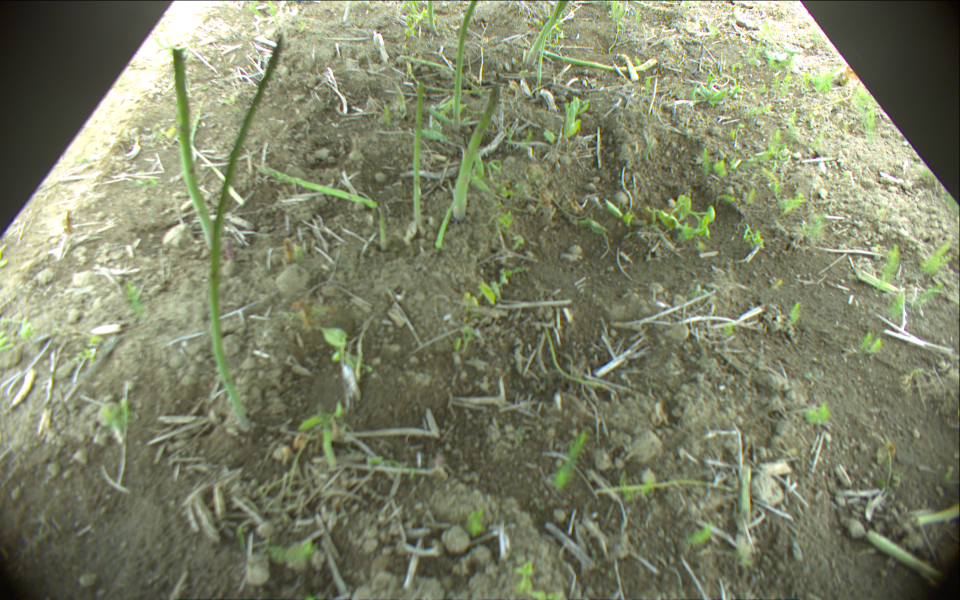aspa: (206, 35, 283, 436), (173, 47, 215, 247), (454, 85, 500, 222), (253, 163, 375, 207), (870, 533, 947, 581), (453, 1, 477, 131), (524, 1, 565, 64), (542, 50, 657, 71), (538, 1, 558, 87), (413, 80, 423, 228), (438, 201, 453, 248), (617, 51, 638, 81), (426, 1, 441, 36), (379, 201, 386, 254)
